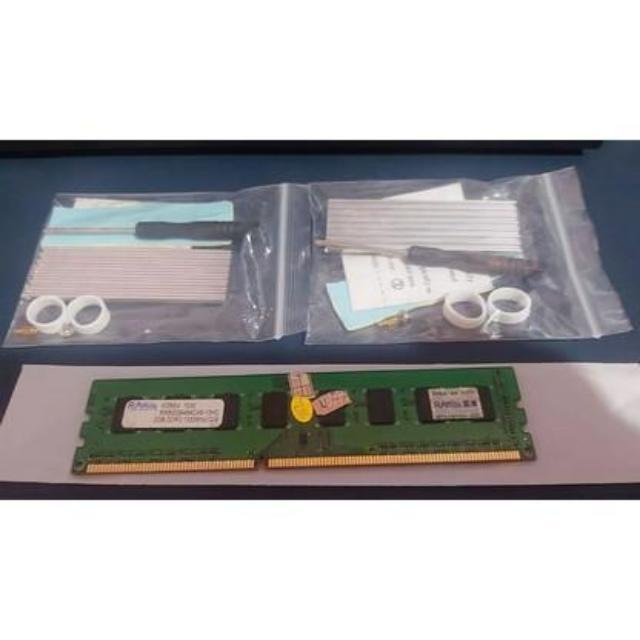RAM: (62, 366, 548, 478)
